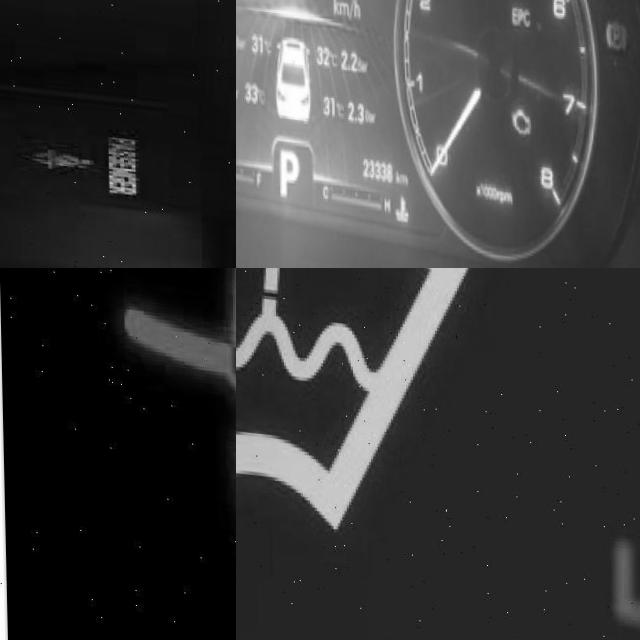Seat Belt: (119, 268, 236, 640), (28, 139, 92, 169)
Washer Fluid: (236, 268, 478, 541)
